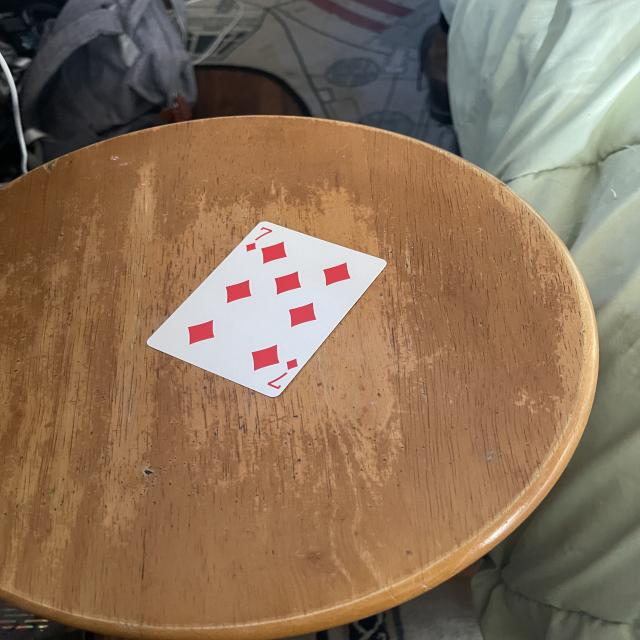7 of diamonds: (150, 223, 385, 395)
